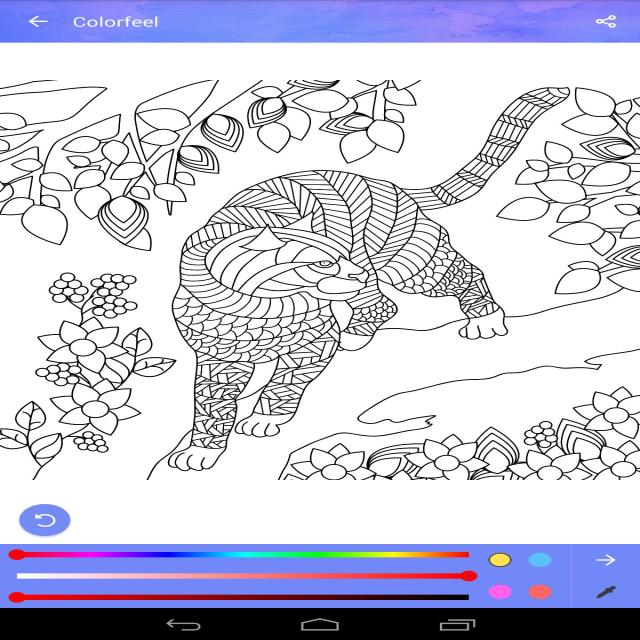button: (21, 504, 68, 537), (589, 10, 630, 33), (586, 579, 624, 603), (590, 549, 626, 571), (25, 14, 51, 31)
heading: (72, 14, 160, 32)
image: (2, 43, 640, 544), (6, 544, 568, 606)
